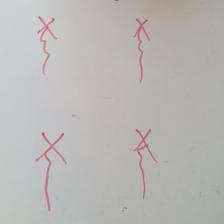ribonuclease-site: (35, 132, 67, 212), (134, 127, 157, 199), (35, 15, 57, 76), (132, 18, 151, 82)
